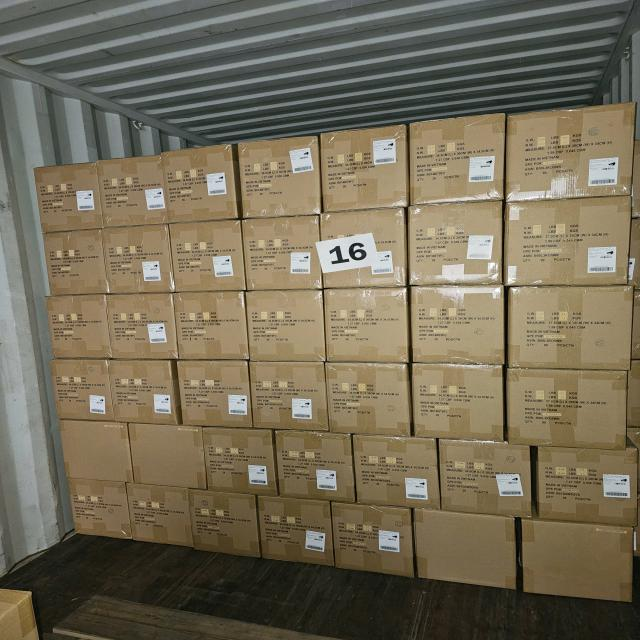Carton: (506, 106, 635, 200), (504, 204, 632, 292), (508, 282, 634, 368), (508, 369, 632, 451), (521, 520, 636, 605), (412, 508, 515, 592), (408, 114, 503, 202), (535, 442, 637, 522), (405, 204, 502, 288), (410, 284, 506, 364), (439, 437, 534, 517), (412, 360, 508, 439), (320, 129, 409, 214), (320, 207, 408, 286), (349, 436, 440, 512), (238, 134, 320, 216), (323, 289, 410, 365), (324, 359, 412, 434), (331, 501, 415, 577), (276, 432, 357, 506), (242, 216, 323, 290), (163, 145, 241, 221), (246, 291, 327, 364), (250, 362, 330, 434), (255, 498, 334, 570), (172, 221, 248, 294), (176, 359, 253, 429), (201, 429, 276, 500), (96, 156, 168, 229), (175, 293, 251, 362), (104, 226, 176, 296), (189, 492, 261, 562), (128, 425, 205, 490), (33, 164, 104, 232), (108, 360, 179, 427), (108, 295, 180, 361), (58, 422, 132, 484), (125, 485, 192, 551), (40, 232, 106, 298), (46, 296, 112, 361), (63, 477, 130, 539), (49, 360, 112, 424), (629, 216, 640, 287), (632, 288, 640, 362)
